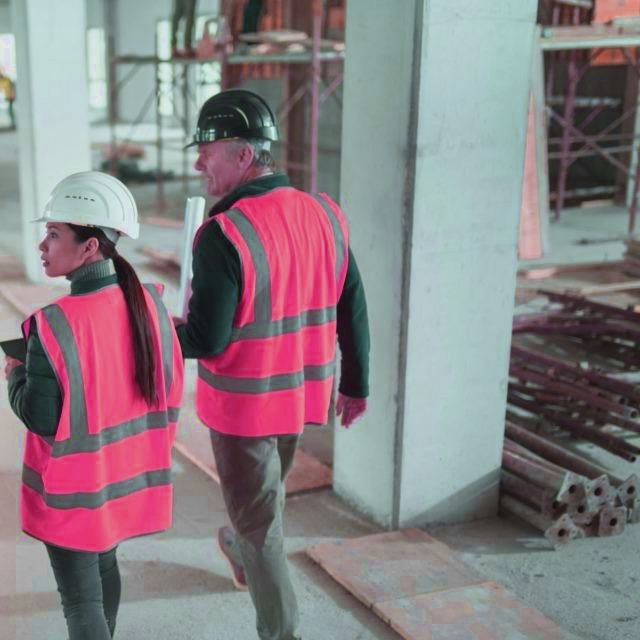Con_Casco: (29, 171, 139, 281)
Con_Chaleco: (21, 282, 178, 546), (195, 188, 343, 438)
